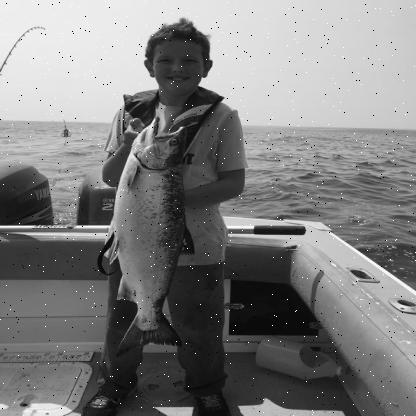fish: (110, 116, 193, 360)
